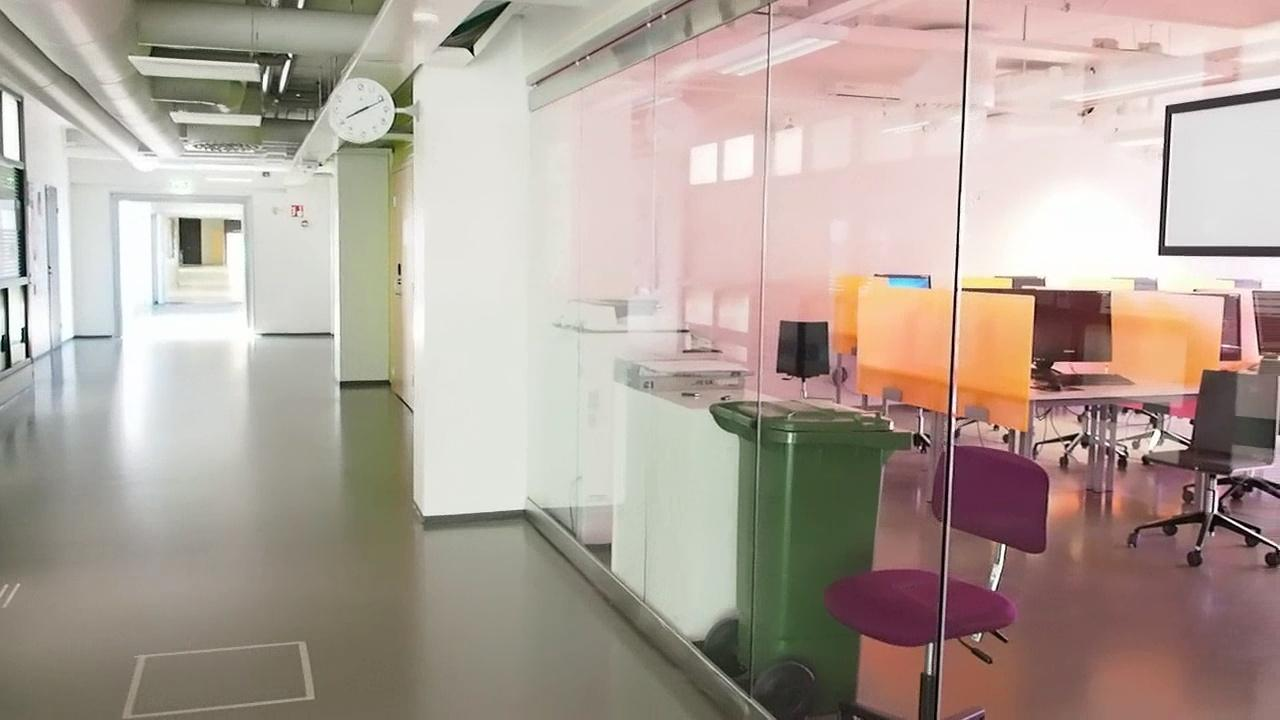chair: (836, 399, 1044, 695)
clock: (326, 77, 391, 140)
trashbin: (721, 392, 893, 684)
